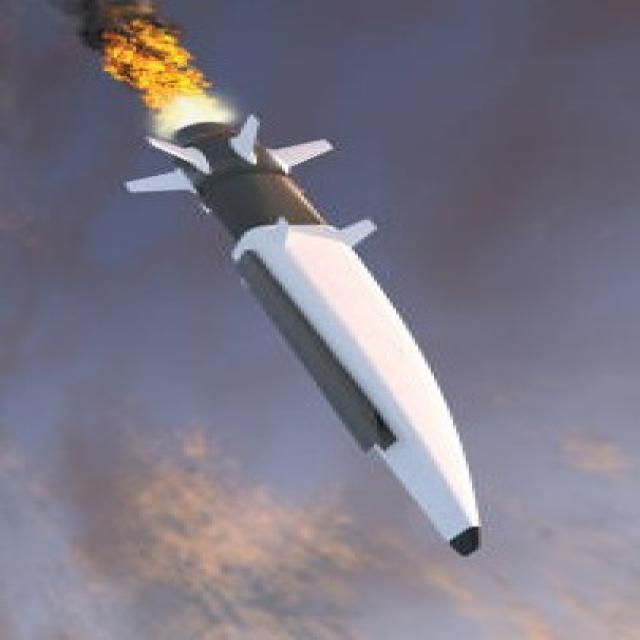missile: (121, 111, 490, 563)
